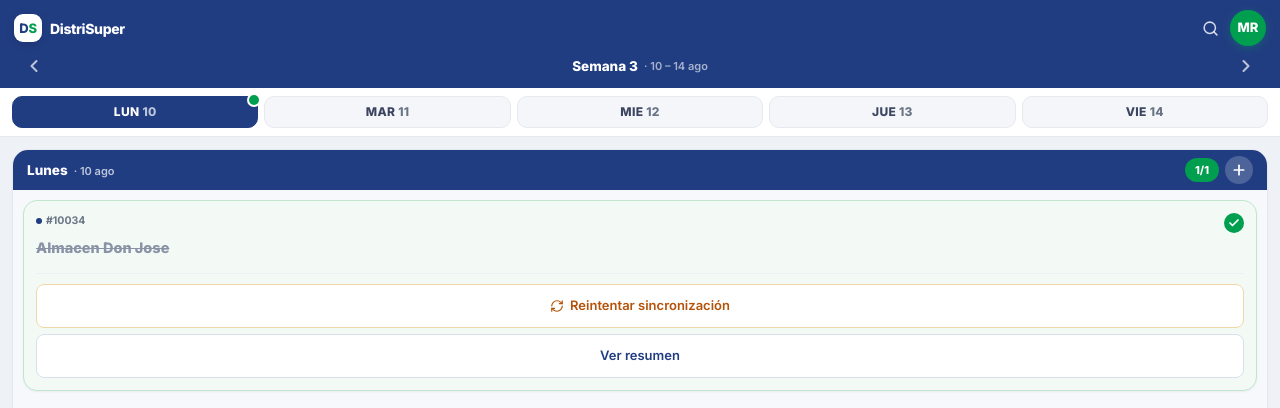
Scenario: reintentar la sincronización con Cromo avisa éxito y refresca la agenda
What coordinates should you click on to do the following:
click the button "Reintentar sincronización"
I would click on:
 (640, 306)
Its box is [36,284,1244,328].
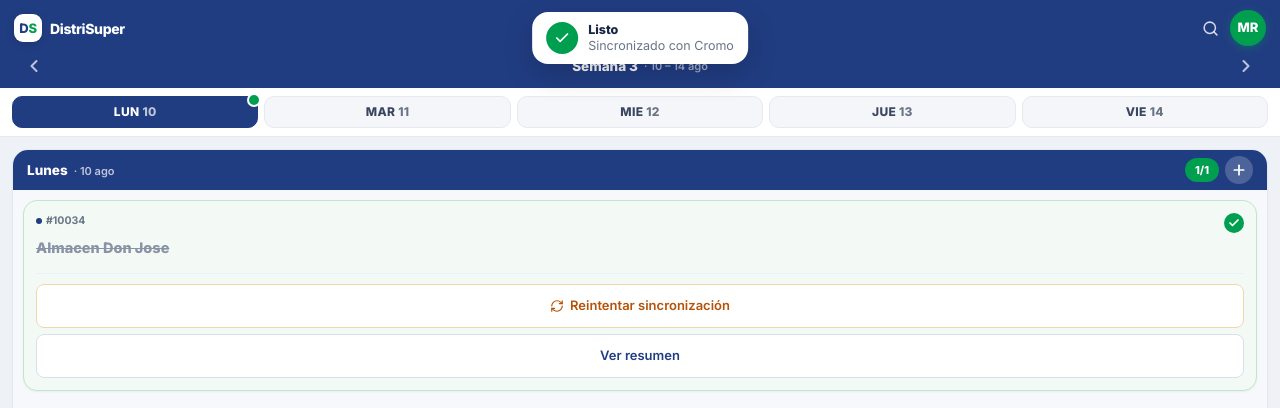
Expected: the text "Sincronizado con Cromo" is shown, [588,38,734,54]
